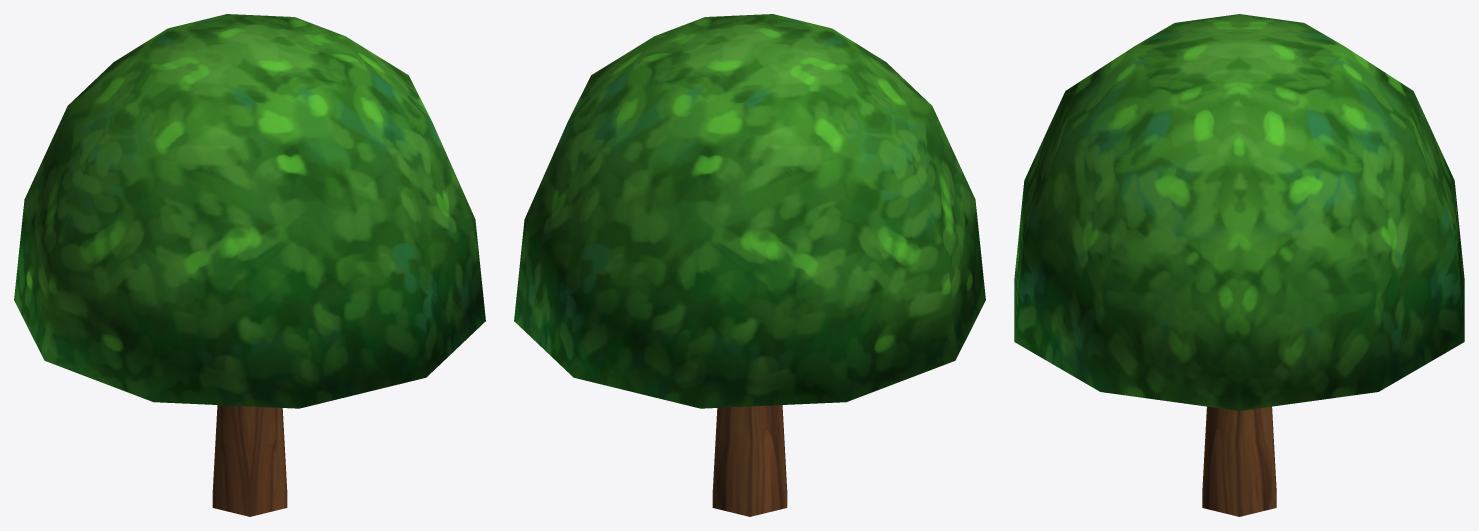
The model's file is Hedge_tree3.fbx.
3 renders of one model, left to right at view 1: azimuth 30°, elevation 25°; view 2: azimuth 150°, elevation 25°; view 3: azimuth 270°, elevation 25°, orthographic.
Visible parts, largest first — view 1: Hedge_tree3; view 2: Hedge_tree3; view 3: Hedge_tree3.
Part boxes in pixels (<box>): Hedge_tree3: <box>14,14,485,516</box>; Hedge_tree3: <box>514,14,985,516</box>; Hedge_tree3: <box>1014,14,1464,516</box>.
Bounding box in the file's own units: 131 × 139 × 125.
